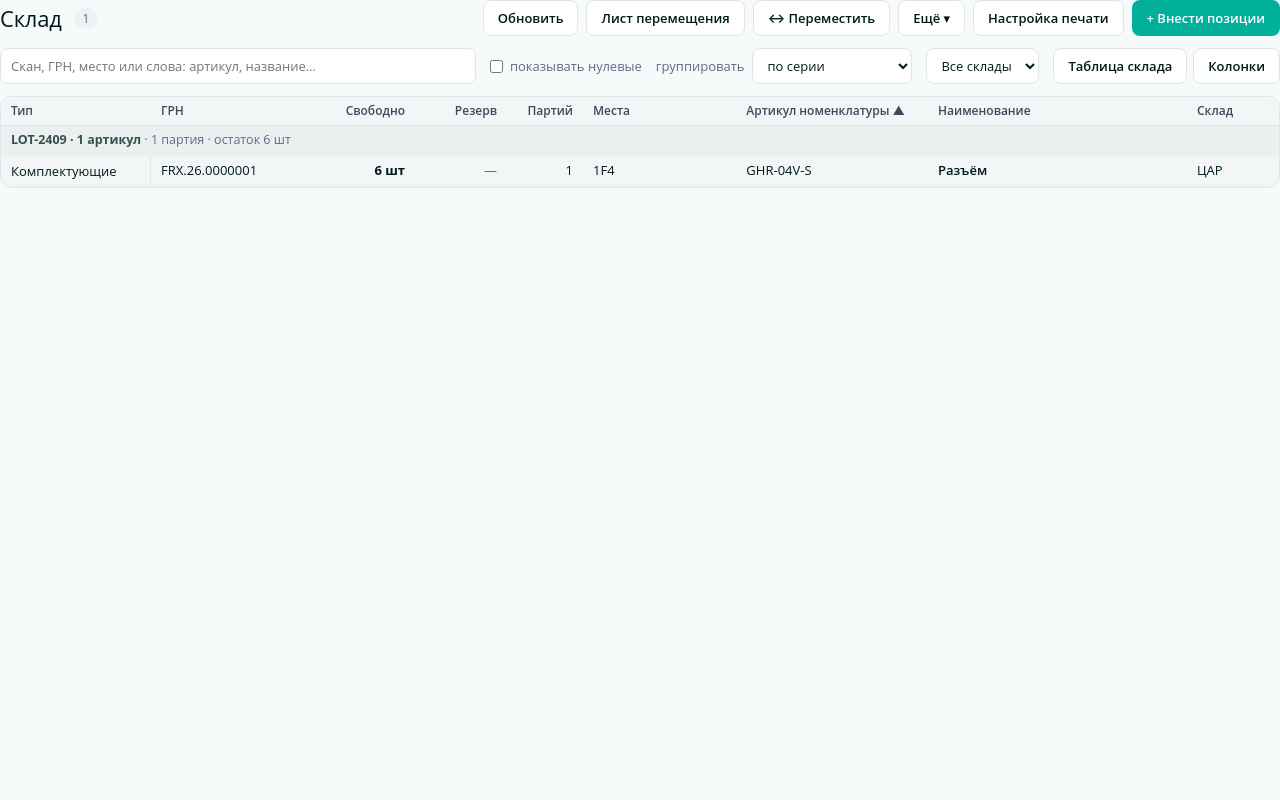
Test: preselects the only destination of the lot
Click the button with aria-label "Показать партии (1)" at (1058, 171), box x1=938 y1=162 x2=1177 y2=180
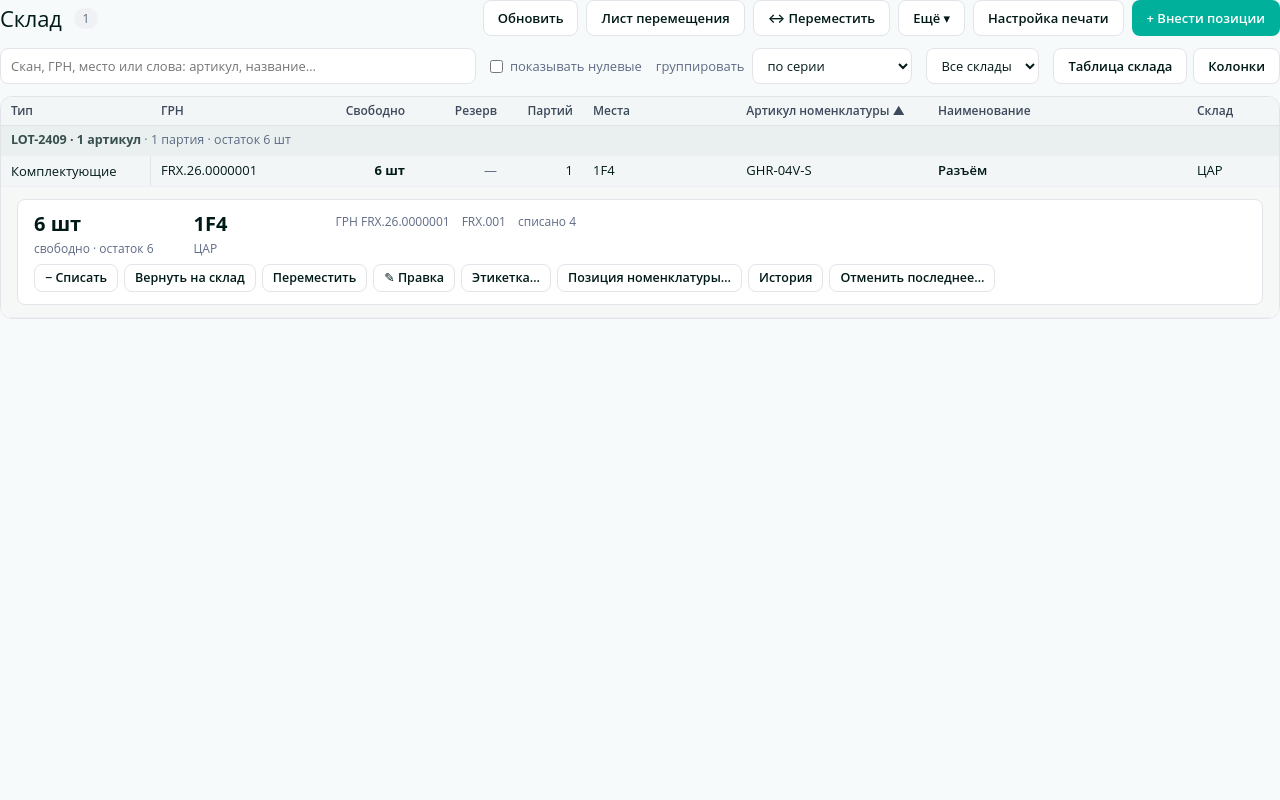
Click the button "Вернуть на склад" at (190, 278), box x1=124 y1=264 x2=256 y2=292
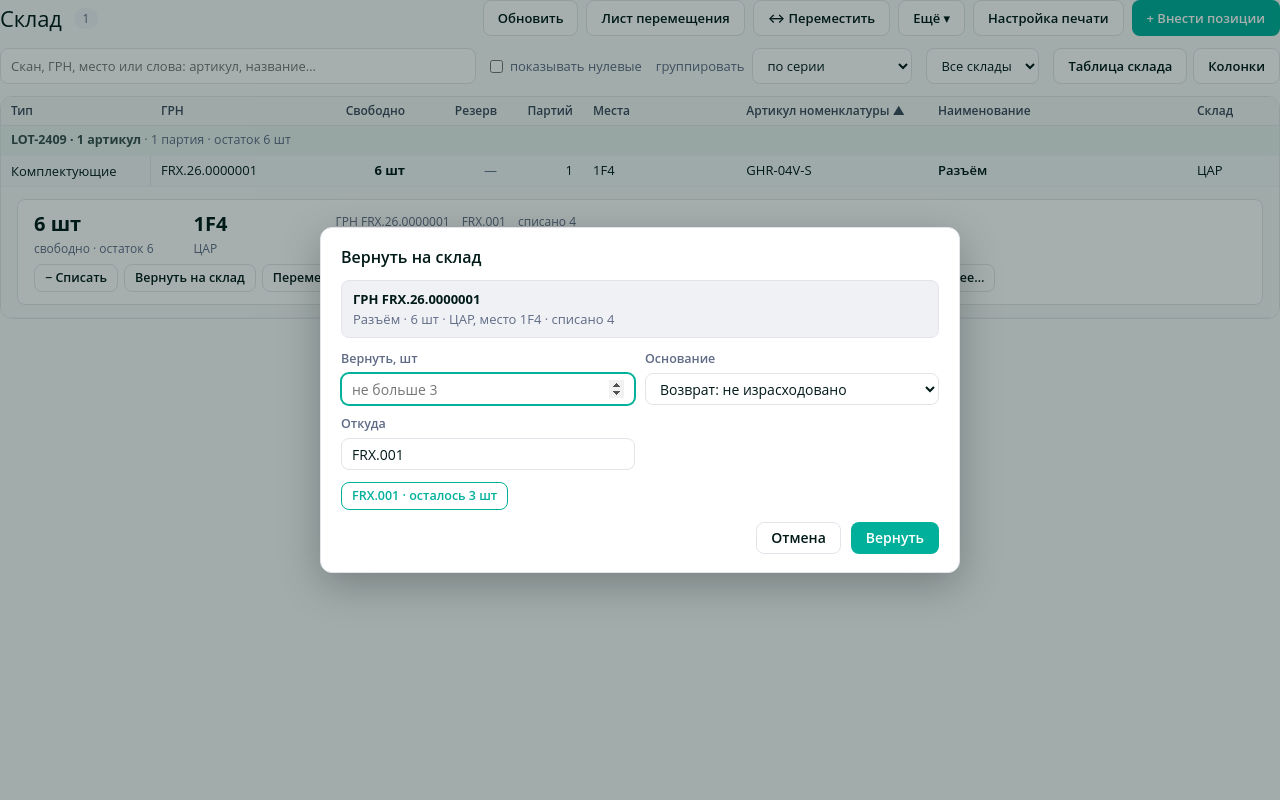
Result: the dropdown named "Откуда возврат" holds "FRX.001" at x1=341 y1=438 x2=635 y2=470
